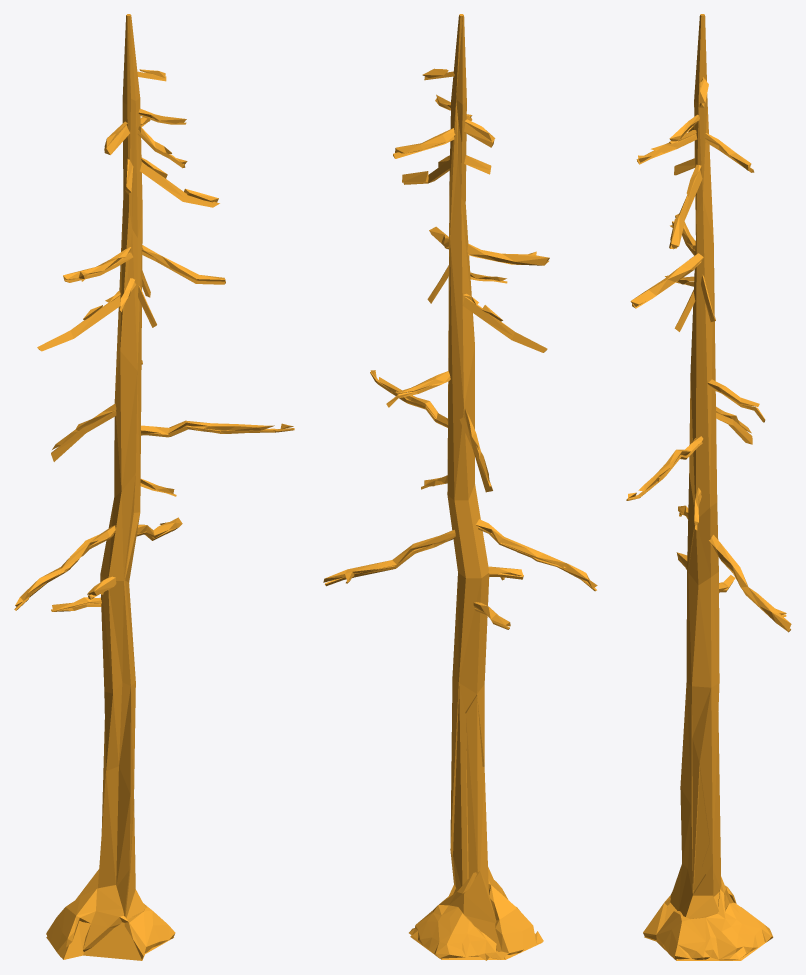
File: SM_Tree_Spruce_Dead_A_Snow.fbx
3 renders of one model, left to right at view 1: azimuth 30°, elevation 25°; view 2: azimuth 150°, elevation 25°; view 3: azimuth 270°, elevation 25°, orthographic.
Parts seen in each view (by area): view 1: tree-spruce-dead-a-snow; view 2: tree-spruce-dead-a-snow; view 3: tree-spruce-dead-a-snow.
Part boxes in pixels (box(x1,y1,x2,y2)): tree-spruce-dead-a-snow: box(14, 14, 294, 960); tree-spruce-dead-a-snow: box(323, 14, 597, 960); tree-spruce-dead-a-snow: box(626, 14, 791, 960).
Bounding box in the file's own units: 3.64 × 12.61 × 2.03.
